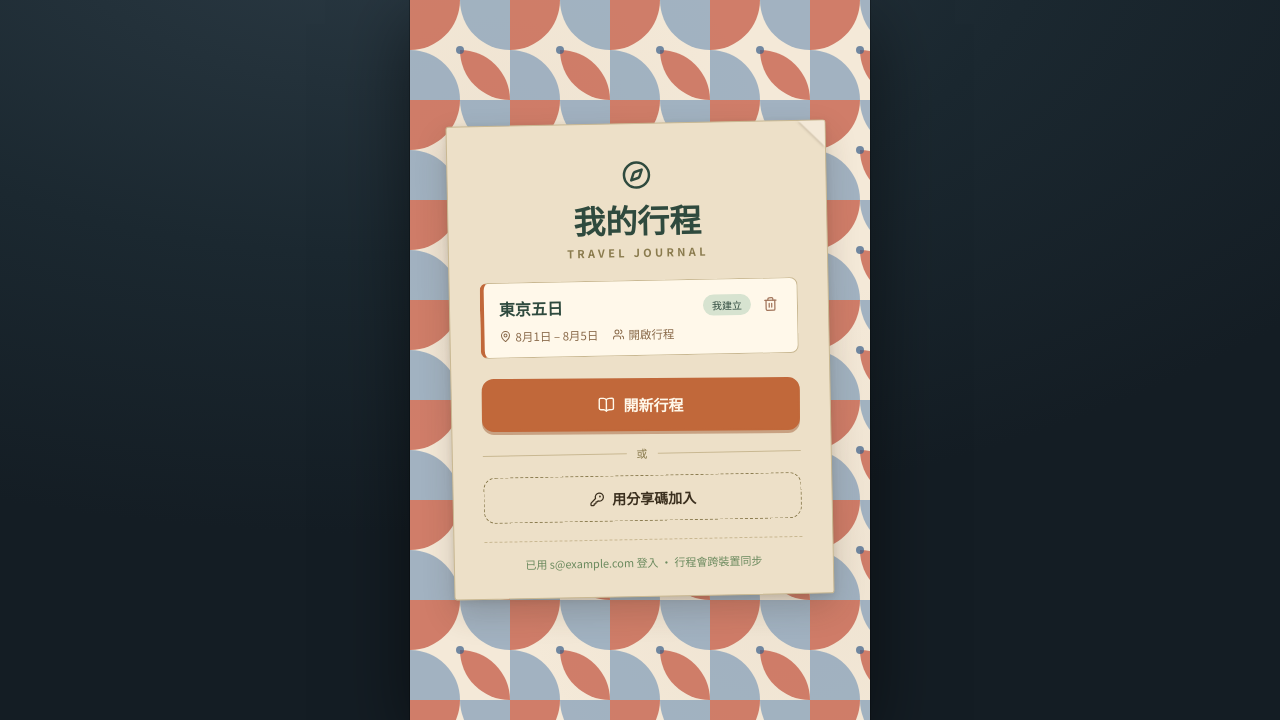
Landing 刪除行程確認框（RLS 收窄後嘅登入 gate） › 登入咗嘅 owner：照出「徹底刪除行程」掣
The width and height of the screenshot is (1280, 720).
Expected: the text "已用 s@example.com 登入 · 行程會跨裝置同步" is shown, [484, 536, 803, 573]
Click the button named "管理 東京五日" at {"x": 770, "y": 304}, box [759, 292, 782, 315]
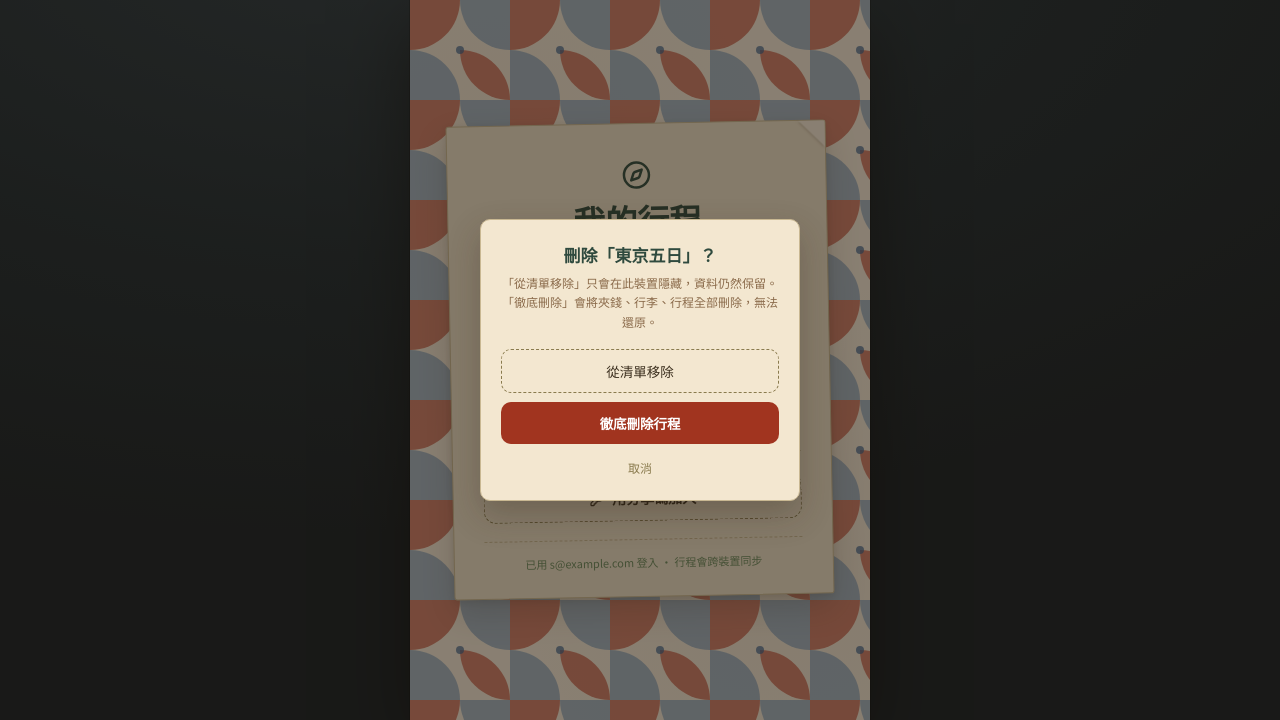
Now the button "徹底刪除行程" is shown, box [501, 402, 779, 444]
